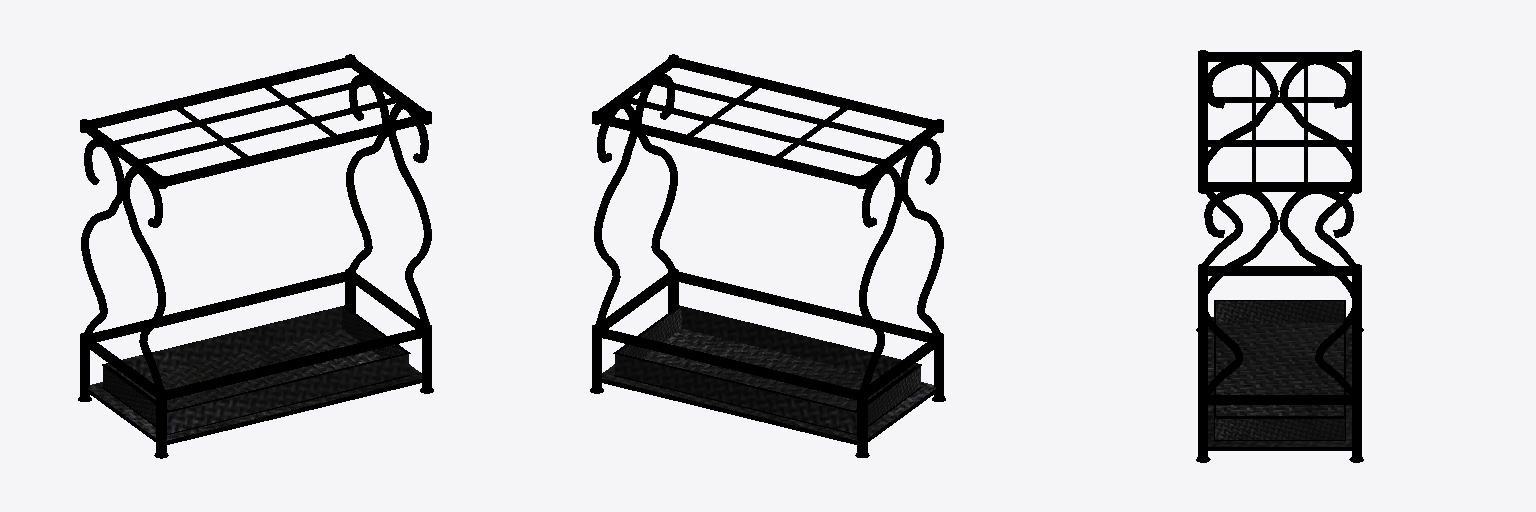
3 views of the same model, side by side, from view 1: azimuth 30°, elevation 25°; view 2: azimuth 150°, elevation 25°; view 3: azimuth 270°, elevation 25° (orthographic).
Visible parts, largest first — view 1: modelPanel4ViewSelectedSet group62 _umbrella:pCube2, modelPanel4ViewSelectedSet group62 _umbrella:pCube1, modelPanel4ViewSelectedSet group62 _umbrella:pCylinder5, modelPanel4ViewSelectedSet group62 _umbrella:pCylinder9, modelPanel4ViewSelectedSet group62 _umbrella:pCylinder11, modelPanel4ViewSelectedSet group62 _umbrella:pCylinder6, modelPanel4ViewSelectedSet group62 _umbrella:nurbsToPoly3, modelPanel4ViewSelectedSet group62 _umbrella:nurbsToPoly2, modelPanel4ViewSelectedSet group62 _umbrella:nurbsToPoly1, modelPanel4ViewSelectedSet group62 _umbrella:nurbsToPoly4, modelPanel4ViewSelectedSet group62 _umbrella:pCylinder20, modelPanel4ViewSelectedSet group62 _umbrella:pCylinder19 (+7 smaller); view 2: modelPanel4ViewSelectedSet group62 _umbrella:pCube2, modelPanel4ViewSelectedSet group62 _umbrella:pCube1, modelPanel4ViewSelectedSet group62 _umbrella:pCylinder6, modelPanel4ViewSelectedSet group62 _umbrella:pCylinder11, modelPanel4ViewSelectedSet group62 _umbrella:pCylinder9, modelPanel4ViewSelectedSet group62 _umbrella:pCylinder5, modelPanel4ViewSelectedSet group62 _umbrella:nurbsToPoly1, modelPanel4ViewSelectedSet group62 _umbrella:nurbsToPoly4, modelPanel4ViewSelectedSet group62 _umbrella:nurbsToPoly3, modelPanel4ViewSelectedSet group62 _umbrella:nurbsToPoly2, modelPanel4ViewSelectedSet group62 _umbrella:pCylinder19, modelPanel4ViewSelectedSet group62 _umbrella:pCylinder20 (+7 smaller); view 3: modelPanel4ViewSelectedSet group62 _umbrella:pCube2, modelPanel4ViewSelectedSet group62 _umbrella:nurbsToPoly2, modelPanel4ViewSelectedSet group62 _umbrella:nurbsToPoly4, modelPanel4ViewSelectedSet group62 _umbrella:pCube1, modelPanel4ViewSelectedSet group62 _umbrella:nurbsToPoly1, modelPanel4ViewSelectedSet group62 _umbrella:nurbsToPoly3, modelPanel4ViewSelectedSet group62 _umbrella:pCylinder7, modelPanel4ViewSelectedSet _umbrella:pCylinder12 group62, modelPanel4ViewSelectedSet group62 _umbrella:pCylinder10, modelPanel4ViewSelectedSet group62 _umbrella:pCylinder11, modelPanel4ViewSelectedSet group62 _umbrella:pCylinder9, modelPanel4ViewSelectedSet group62 _umbrella:pCylinder8 (+6 smaller).
Part boxes in pixels (left/top/right/bottom): modelPanel4ViewSelectedSet group62 _umbrella:pCube2: left=101, top=305, right=410, bottom=434; modelPanel4ViewSelectedSet group62 _umbrella:pCube1: left=87, top=364, right=422, bottom=444; modelPanel4ViewSelectedSet group62 _umbrella:pCylinder5: left=163, top=328, right=430, bottom=399; modelPanel4ViewSelectedSet group62 _umbrella:pCylinder9: left=163, top=114, right=430, bottom=186; modelPanel4ViewSelectedSet group62 _umbrella:pCylinder11: left=89, top=58, right=348, bottom=128; modelPanel4ViewSelectedSet group62 _umbrella:pCylinder6: left=90, top=272, right=348, bottom=341; modelPanel4ViewSelectedSet group62 _umbrella:nurbsToPoly3: left=122, top=167, right=165, bottom=392; modelPanel4ViewSelectedSet group62 _umbrella:nurbsToPoly2: left=388, top=103, right=431, bottom=327; modelPanel4ViewSelectedSet group62 _umbrella:nurbsToPoly1: left=81, top=139, right=123, bottom=337; modelPanel4ViewSelectedSet group62 _umbrella:nurbsToPoly4: left=346, top=74, right=388, bottom=273; modelPanel4ViewSelectedSet group62 _umbrella:pCylinder20: left=115, top=78, right=372, bottom=145; modelPanel4ViewSelectedSet group62 _umbrella:pCylinder19: left=139, top=96, right=397, bottom=163; modelPanel4ViewSelectedSet group62 _umbrella:pCube2: left=613, top=305, right=922, bottom=434; modelPanel4ViewSelectedSet group62 _umbrella:pCube1: left=601, top=364, right=936, bottom=444; modelPanel4ViewSelectedSet group62 _umbrella:pCylinder6: left=594, top=328, right=859, bottom=399; modelPanel4ViewSelectedSet group62 _umbrella:pCylinder11: left=595, top=114, right=859, bottom=186; modelPanel4ViewSelectedSet group62 _umbrella:pCylinder9: left=675, top=58, right=934, bottom=128; modelPanel4ViewSelectedSet group62 _umbrella:pCylinder5: left=675, top=272, right=933, bottom=341; modelPanel4ViewSelectedSet group62 _umbrella:nurbsToPoly1: left=859, top=166, right=902, bottom=391; modelPanel4ViewSelectedSet group62 _umbrella:nurbsToPoly4: left=594, top=103, right=637, bottom=326; modelPanel4ViewSelectedSet group62 _umbrella:nurbsToPoly3: left=900, top=139, right=943, bottom=336; modelPanel4ViewSelectedSet group62 _umbrella:nurbsToPoly2: left=635, top=74, right=677, bottom=272; modelPanel4ViewSelectedSet group62 _umbrella:pCylinder19: left=651, top=78, right=908, bottom=145; modelPanel4ViewSelectedSet group62 _umbrella:pCylinder20: left=626, top=96, right=884, bottom=163; modelPanel4ViewSelectedSet group62 _umbrella:pCube2: left=1214, top=300, right=1345, bottom=440; modelPanel4ViewSelectedSet group62 _umbrella:nurbsToPoly2: left=1198, top=191, right=1278, bottom=396; modelPanel4ViewSelectedSet group62 _umbrella:nurbsToPoly4: left=1279, top=192, right=1360, bottom=396; modelPanel4ViewSelectedSet group62 _umbrella:pCube1: left=1208, top=317, right=1351, bottom=450; modelPanel4ViewSelectedSet group62 _umbrella:nurbsToPoly1: left=1279, top=62, right=1357, bottom=267; modelPanel4ViewSelectedSet group62 _umbrella:nurbsToPoly3: left=1200, top=62, right=1278, bottom=267; modelPanel4ViewSelectedSet group62 _umbrella:pCylinder7: left=1203, top=395, right=1356, bottom=404; modelPanel4ViewSelectedSet _umbrella:pCylinder12 group62: left=1203, top=182, right=1356, bottom=191; modelPanel4ViewSelectedSet group62 _umbrella:pCylinder10: left=1206, top=52, right=1353, bottom=61; modelPanel4ViewSelectedSet group62 _umbrella:pCylinder11: left=1352, top=55, right=1361, bottom=180; modelPanel4ViewSelectedSet group62 _umbrella:pCylinder9: left=1198, top=55, right=1207, bottom=180; modelPanel4ViewSelectedSet group62 _umbrella:pCylinder8: left=1207, top=266, right=1352, bottom=275.
Size of the model in its own units: 62.87 by 59.96 by 32.91.
Materials: 1 (1 with a texture image).